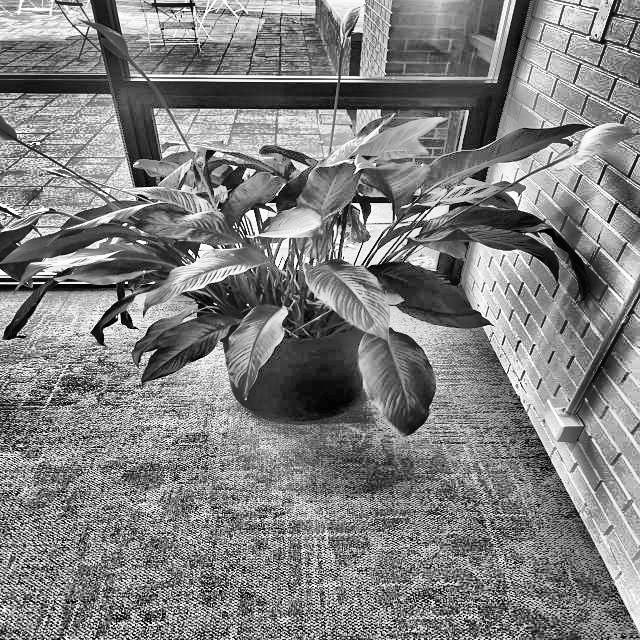plants: (89, 150, 502, 329)
